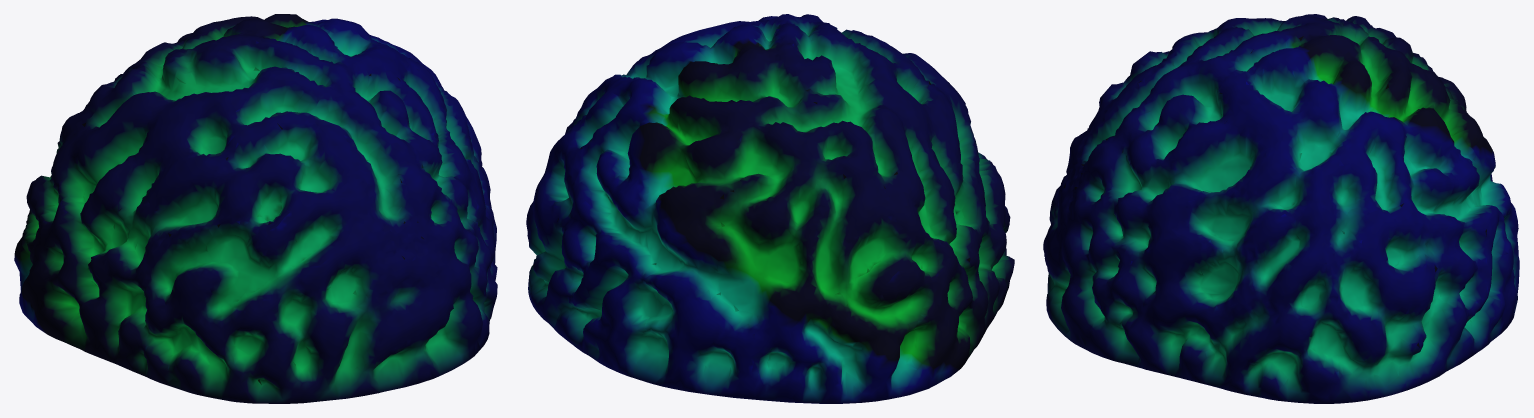
Rendered from reef-brain-meandroid-diploria.glb.
3 renders of one model, left to right at view 1: azimuth 30°, elevation 25°; view 2: azimuth 150°, elevation 25°; view 3: azimuth 270°, elevation 25°, orthographic.
Parts seen in each view (by area): view 1: Reef_Brain_Meandroid_Diploria; view 2: Reef_Brain_Meandroid_Diploria; view 3: Reef_Brain_Meandroid_Diploria.
Part boxes in pixels (x1=…): Reef_Brain_Meandroid_Diploria: x1=14, y1=14, x2=497, y2=403; Reef_Brain_Meandroid_Diploria: x1=526, y1=14, x2=1014, y2=403; Reef_Brain_Meandroid_Diploria: x1=1043, y1=14, x2=1519, y2=403.
Size of the model in its own units: 0.1562 by 0.0996 by 0.1495.
Materials: 1 (1 with a texture image).
